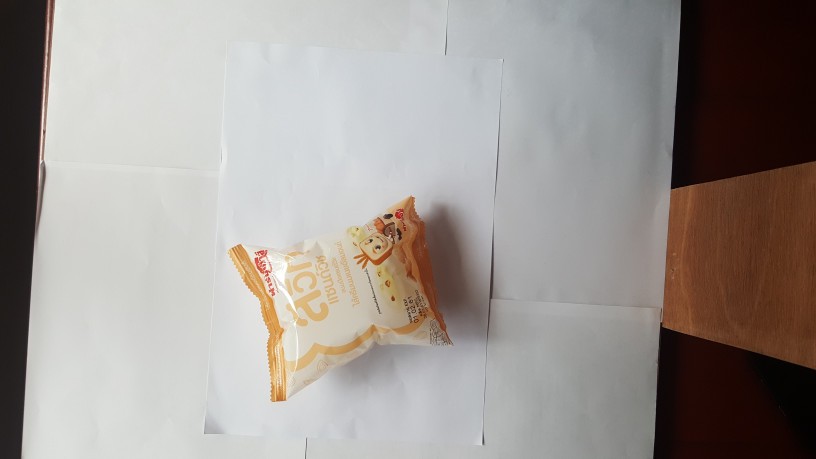farmhouse-sweetsandwich-almond: (220, 195, 463, 401)
